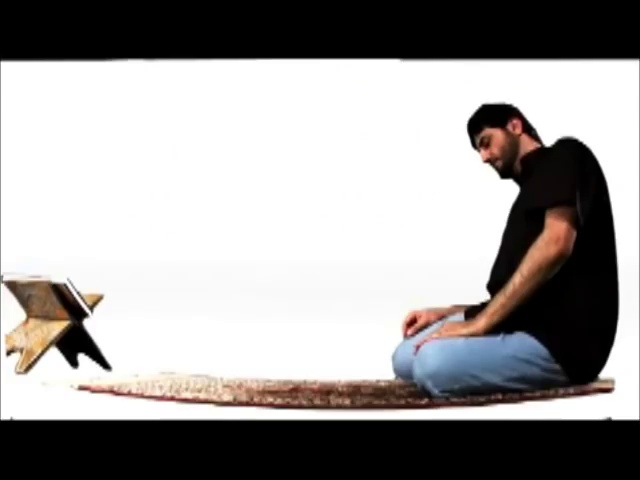sitting: (379, 91, 622, 398)
